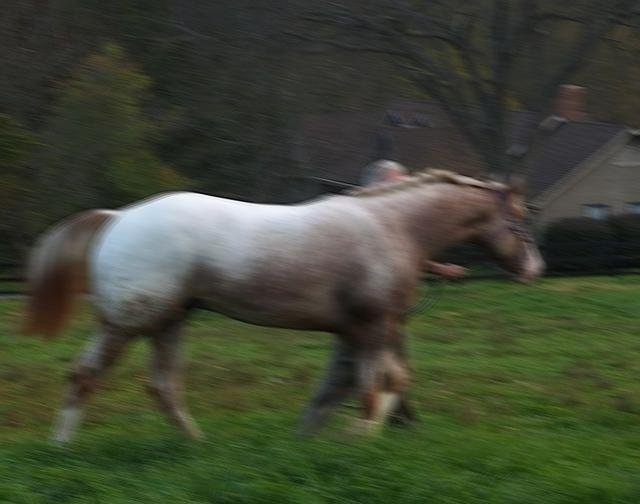horse: (11, 165, 544, 449)
